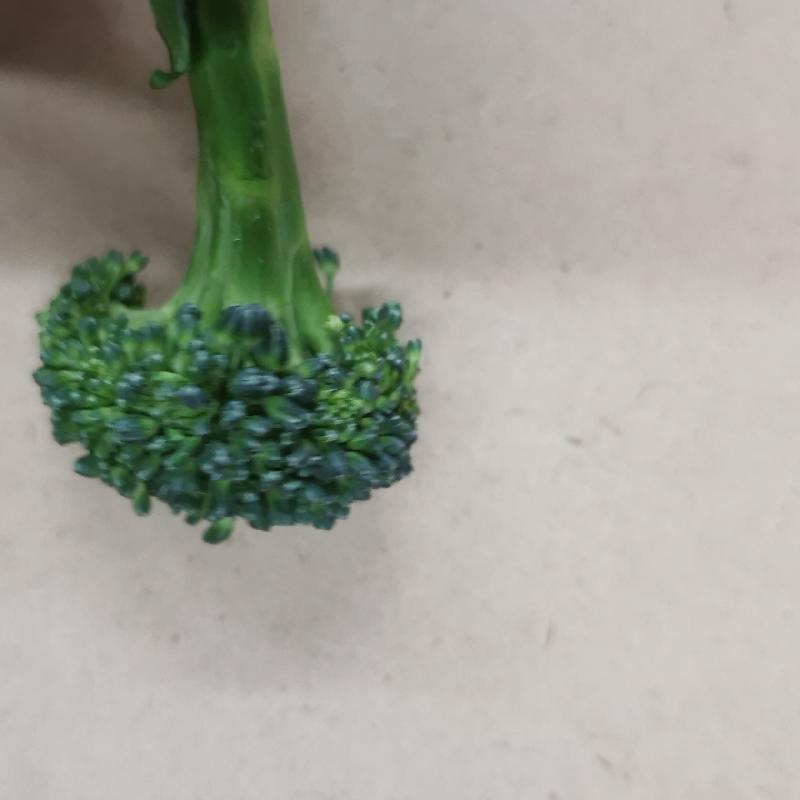broccoli: (30, 4, 425, 542)
